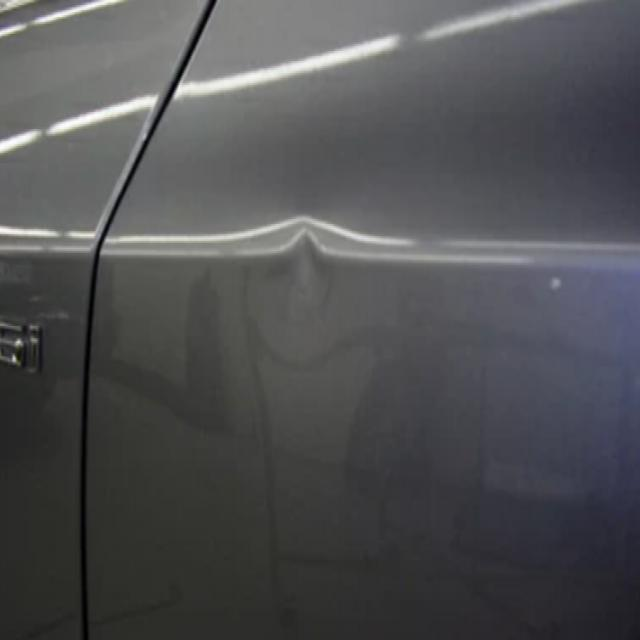dents: (246, 217, 334, 336)
